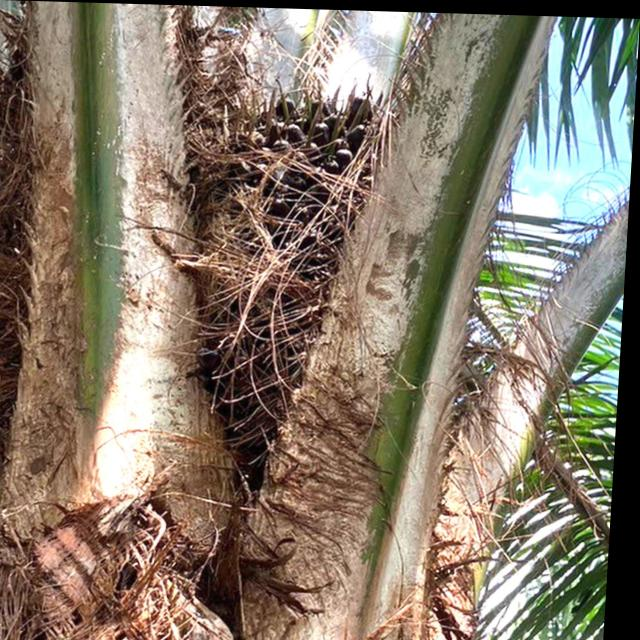almost: (199, 60, 395, 390)
